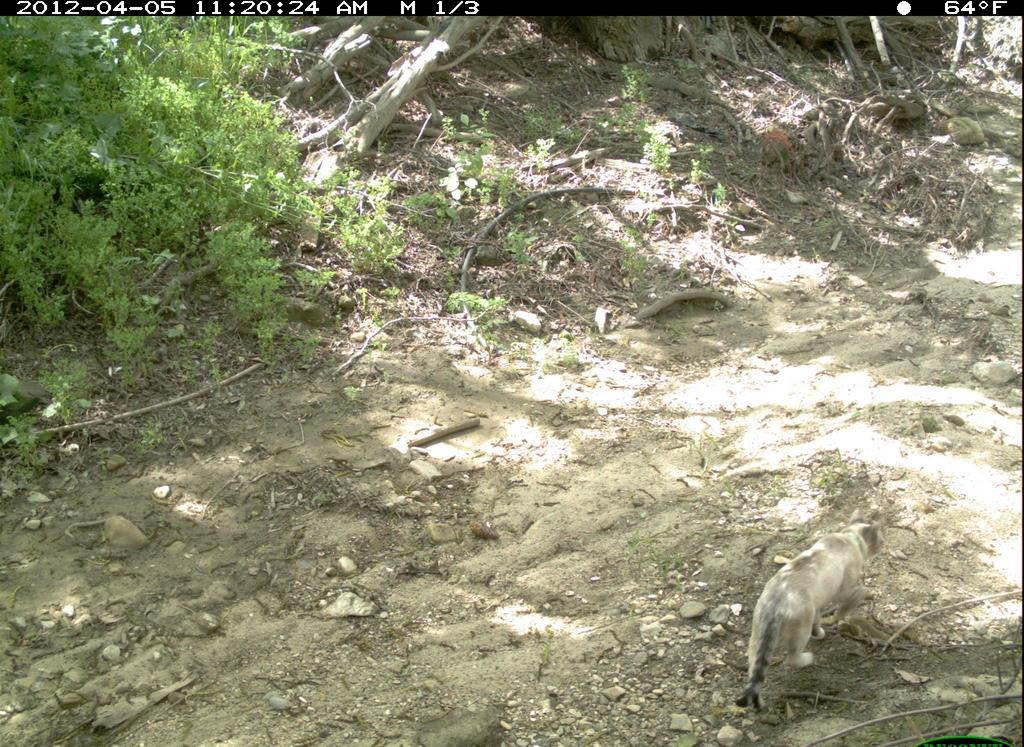cat: (729, 500, 893, 719)
